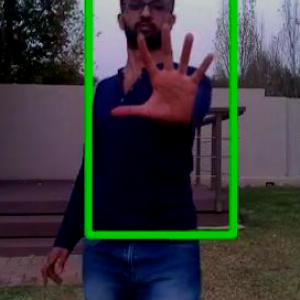follow_hand: (109, 18, 217, 136)
